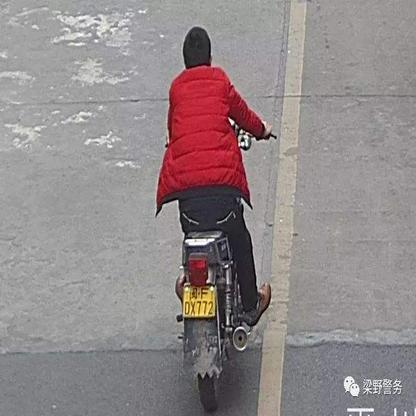target: (154, 24, 276, 410)
